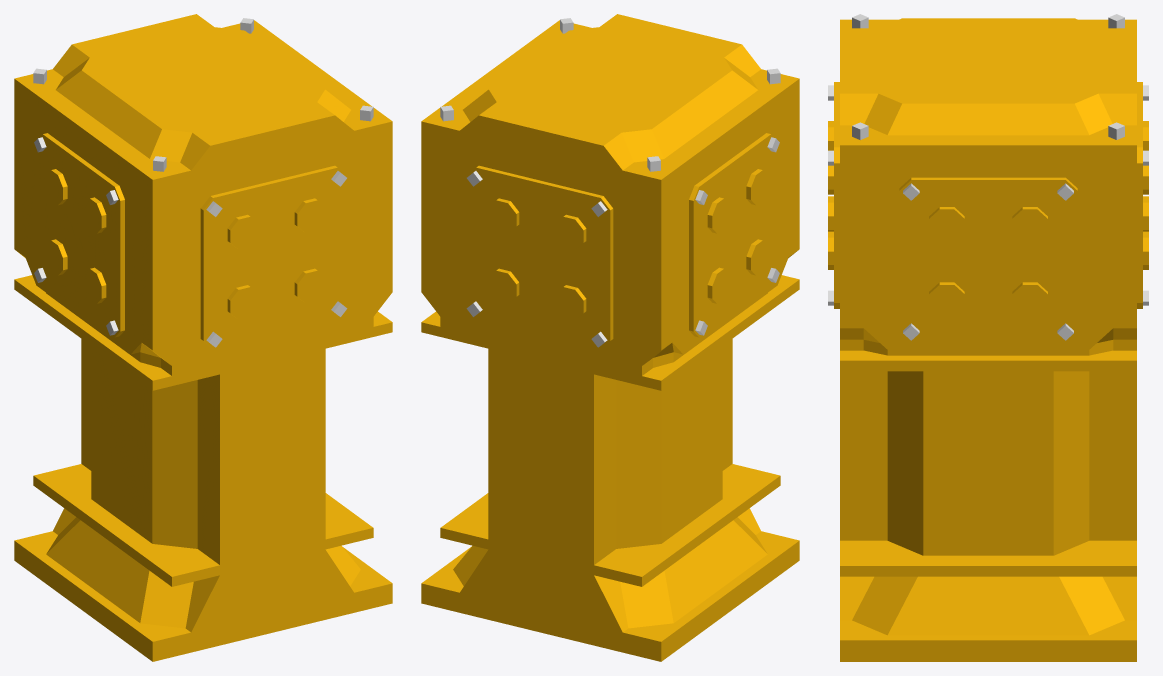
The model's file is modular_engine_cylinder_1x1x2.dae.
3 renders of one model, left to right at view 1: azimuth 30°, elevation 25°; view 2: azimuth 150°, elevation 25°; view 3: azimuth 270°, elevation 25°, orthographic. The views are drawn at different scales.
Visible parts, largest first — view 1: Cube; view 2: Cube; view 3: Cube.
Part boxes in pixels (left/top/right/bottom): Cube: left=14, top=14, right=392, bottom=661; Cube: left=421, top=14, right=799, bottom=661; Cube: left=828, top=14, right=1148, bottom=661.
Size of the model in its own units: 0.27 by 0.27 by 0.5.
